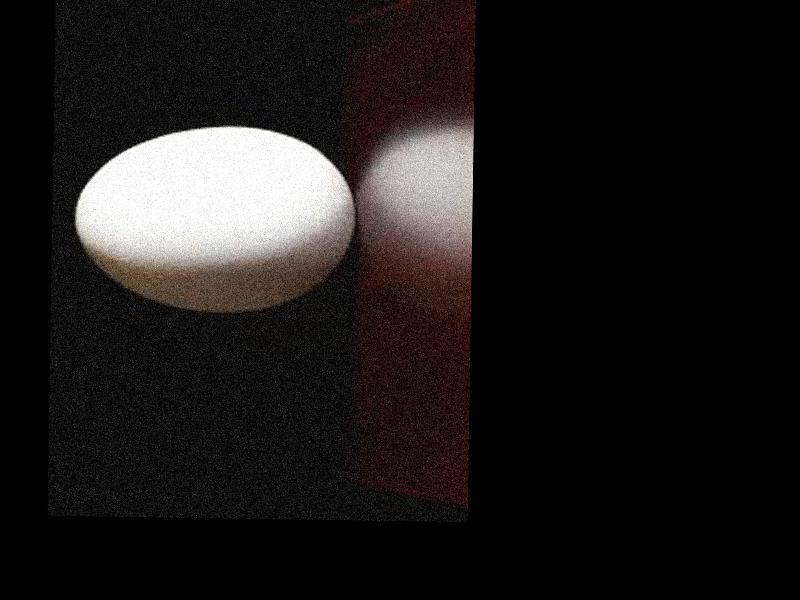Eggs: (74, 124, 357, 312)
